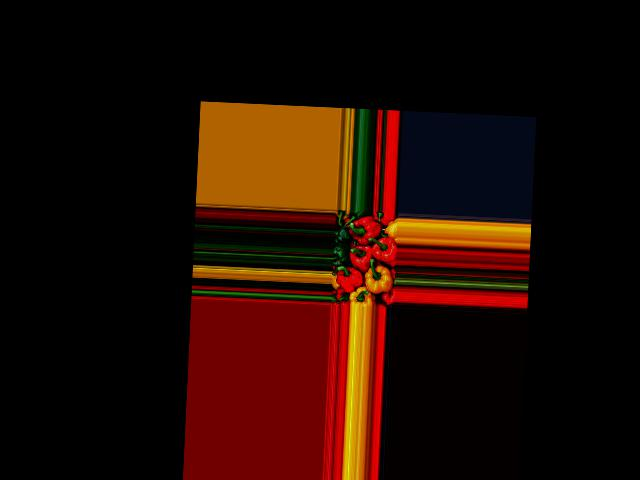bell_pepper: (385, 220, 398, 237)
